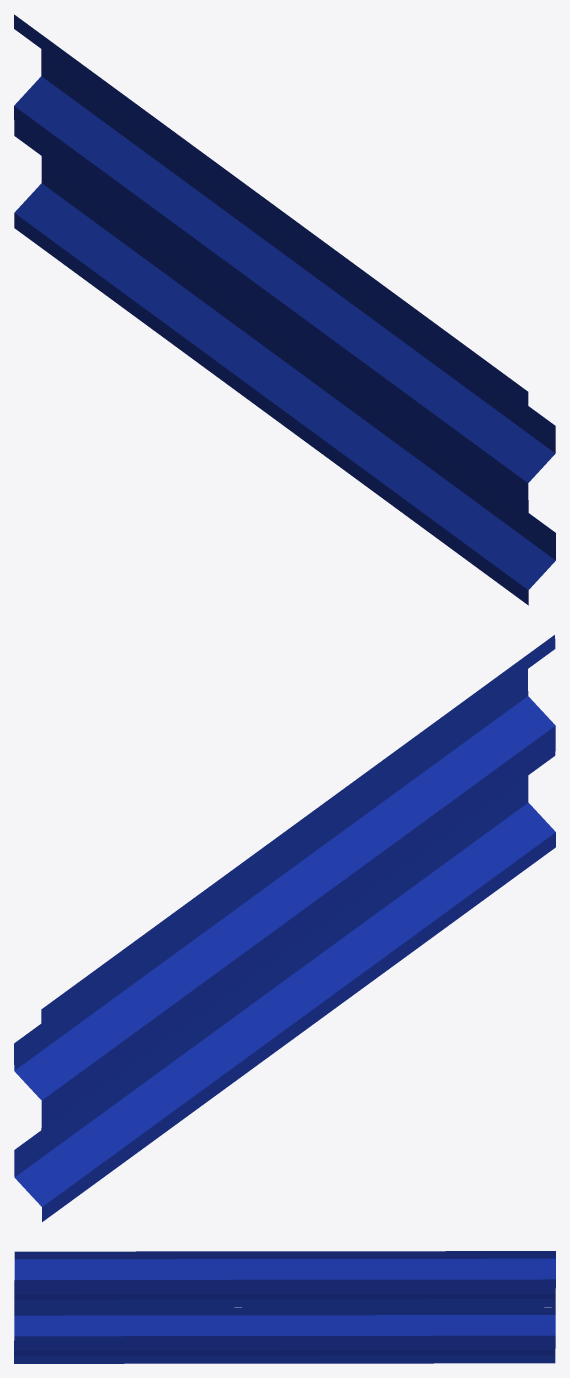
Rendered from GuardRail2.fbx.
3 renders of one model, top to bottom at view 1: azimuth 30°, elevation 25°; view 2: azimuth 150°, elevation 25°; view 3: azimuth 270°, elevation 25°, orthographic. The views are drawn at different scales.
Parts seen in each view (by area): view 1: Plane.001; view 2: Plane.001; view 3: Plane.001.
Boxes of the visible parts, x1=… form: Plane.001: x1=14, y1=14, x2=555, y2=605; Plane.001: x1=14, y1=635, x2=555, y2=1221; Plane.001: x1=14, y1=1251, x2=555, y2=1363.
Bounding box in the file's own units: 4.84 × 35.96 × 156.
